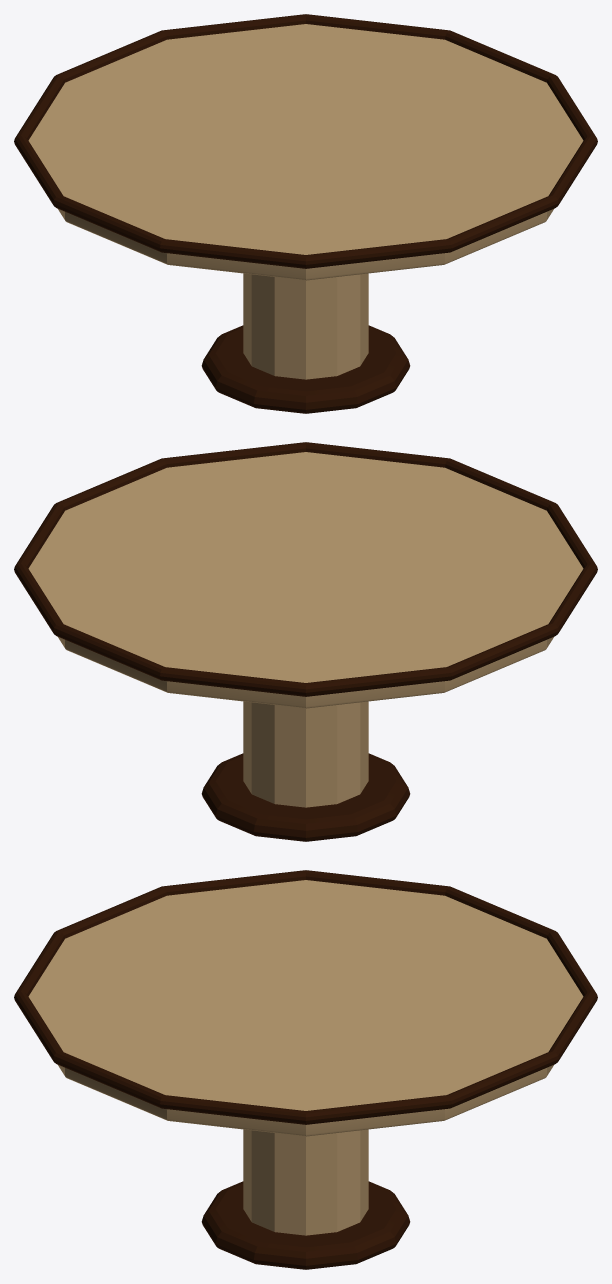
The model's file is tabledefault.DAE.
3 renders of one model, top to bottom at view 1: azimuth 30°, elevation 25°; view 2: azimuth 150°, elevation 25°; view 3: azimuth 270°, elevation 25°, orthographic.
Parts seen in each view (by area): view 1: FBXASC051dSolid, FBXASC051dSolid_ncl1_1, FBXASC051dSolid_ncl1_3, FBXASC051dSolid_ncl1_4, FBXASC051dSolid_ncl1_2; view 2: FBXASC051dSolid, FBXASC051dSolid_ncl1_1, FBXASC051dSolid_ncl1_3, FBXASC051dSolid_ncl1_4, FBXASC051dSolid_ncl1_2; view 3: FBXASC051dSolid, FBXASC051dSolid_ncl1_1, FBXASC051dSolid_ncl1_3, FBXASC051dSolid_ncl1_4, FBXASC051dSolid_ncl1_2.
Boxes of the visible parts, box(x1,y1,x2,y2) form: FBXASC051dSolid: box(28, 24, 583, 280); FBXASC051dSolid_ncl1_1: box(14, 14, 597, 268); FBXASC051dSolid_ncl1_3: box(243, 273, 368, 379); FBXASC051dSolid_ncl1_4: box(201, 325, 410, 413); FBXASC051dSolid_ncl1_2: box(252, 114, 367, 166); FBXASC051dSolid: box(28, 452, 583, 708); FBXASC051dSolid_ncl1_1: box(14, 442, 597, 696); FBXASC051dSolid_ncl1_3: box(243, 701, 368, 807); FBXASC051dSolid_ncl1_4: box(201, 753, 410, 841); FBXASC051dSolid_ncl1_2: box(242, 542, 362, 595); FBXASC051dSolid: box(28, 880, 583, 1136); FBXASC051dSolid_ncl1_1: box(14, 870, 597, 1124); FBXASC051dSolid_ncl1_3: box(243, 1129, 368, 1235); FBXASC051dSolid_ncl1_4: box(201, 1181, 410, 1269); FBXASC051dSolid_ncl1_2: box(241, 970, 370, 1024).
Bounding box in the file's own units: 0.42 × 0.188 × 0.42.
